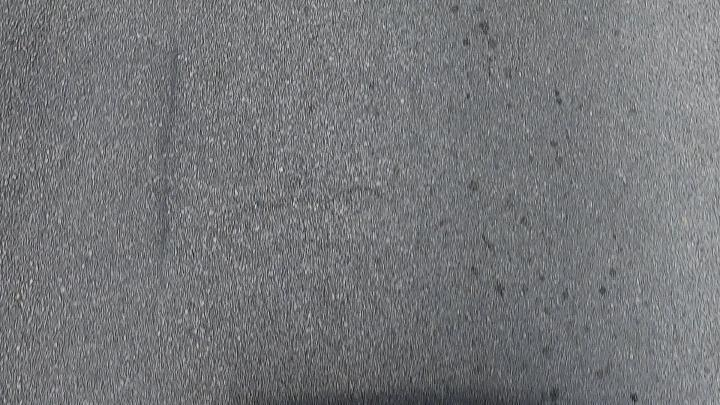Crack: (152, 47, 185, 231), (250, 177, 378, 209), (252, 178, 378, 209), (158, 46, 180, 176), (155, 187, 176, 232)
